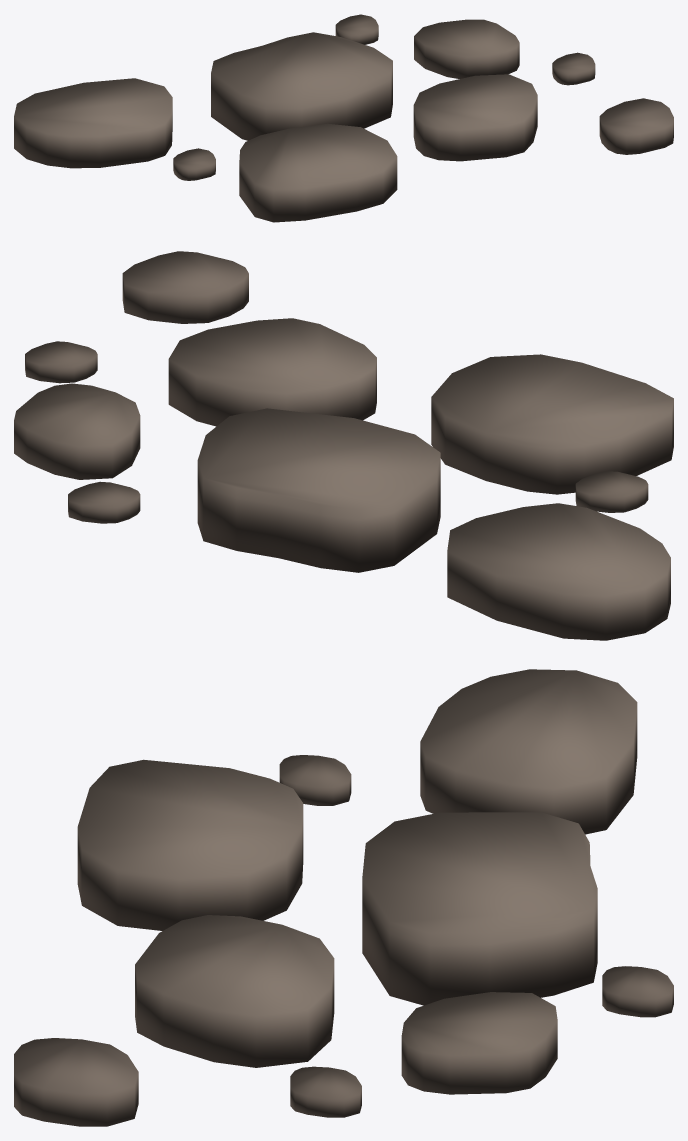
The model's file is obj_PathStraight.fbx.
3 views of the same model, one above another, from view 1: azimuth 30°, elevation 25°; view 2: azimuth 150°, elevation 25°; view 3: azimuth 270°, elevation 25° (orthographic). The views are drawn at different scales.
Parts seen in each view (by area): view 1: obj_PathStraight; view 2: obj_PathStraight; view 3: obj_PathStraight.
Boxes of the visible parts, x1=… form: obj_PathStraight: x1=14, y1=14, x2=673, y2=222; obj_PathStraight: x1=14, y1=251, x2=673, y2=640; obj_PathStraight: x1=14, y1=669, x2=673, y2=1126.
Size of the model in its own units: 1022 by 85.29 by 688.
